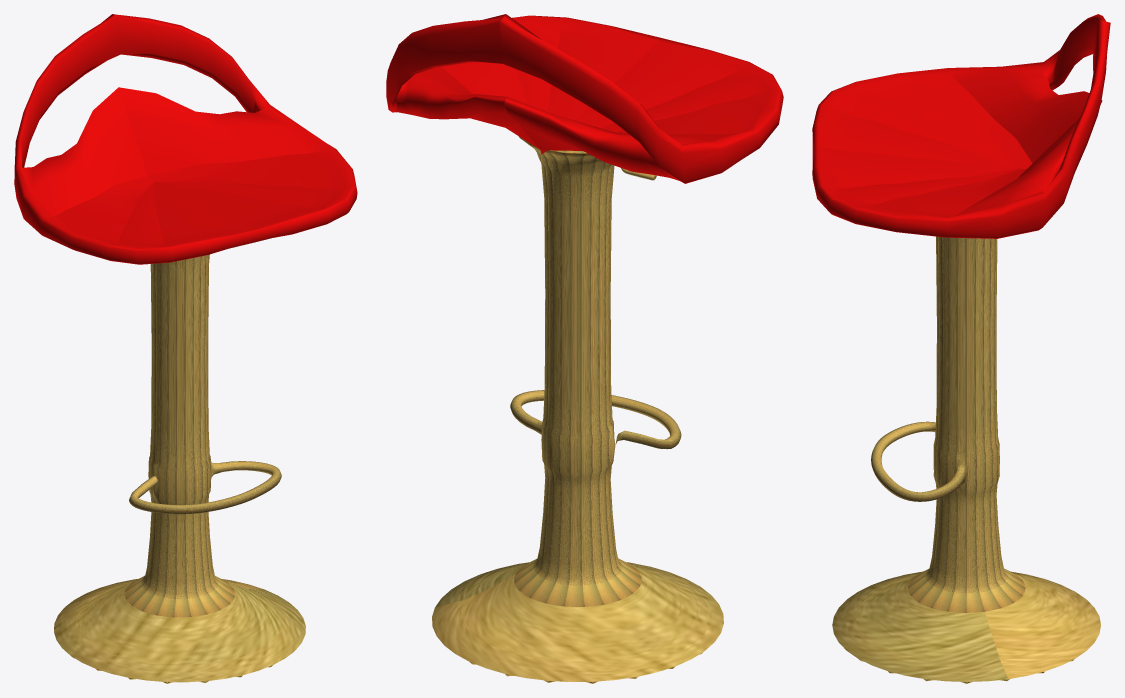
The model's file is ChairFancy.fbx.
3 views of the same model, side by side, from view 1: azimuth 30°, elevation 25°; view 2: azimuth 150°, elevation 25°; view 3: azimuth 270°, elevation 25° (orthographic). The views are drawn at different scales.
Parts seen in each view (by area): view 1: polySurface2; view 2: polySurface2; view 3: polySurface2.
Part boxes in pixels (left/top/right/bottom): polySurface2: left=14, top=14, right=357, bottom=683; polySurface2: left=386, top=14, right=783, bottom=683; polySurface2: left=812, top=14, right=1110, bottom=683.
Bounding box in the file's own units: 2.24 × 4.14 × 1.83.
2 materials, 1 textured.
